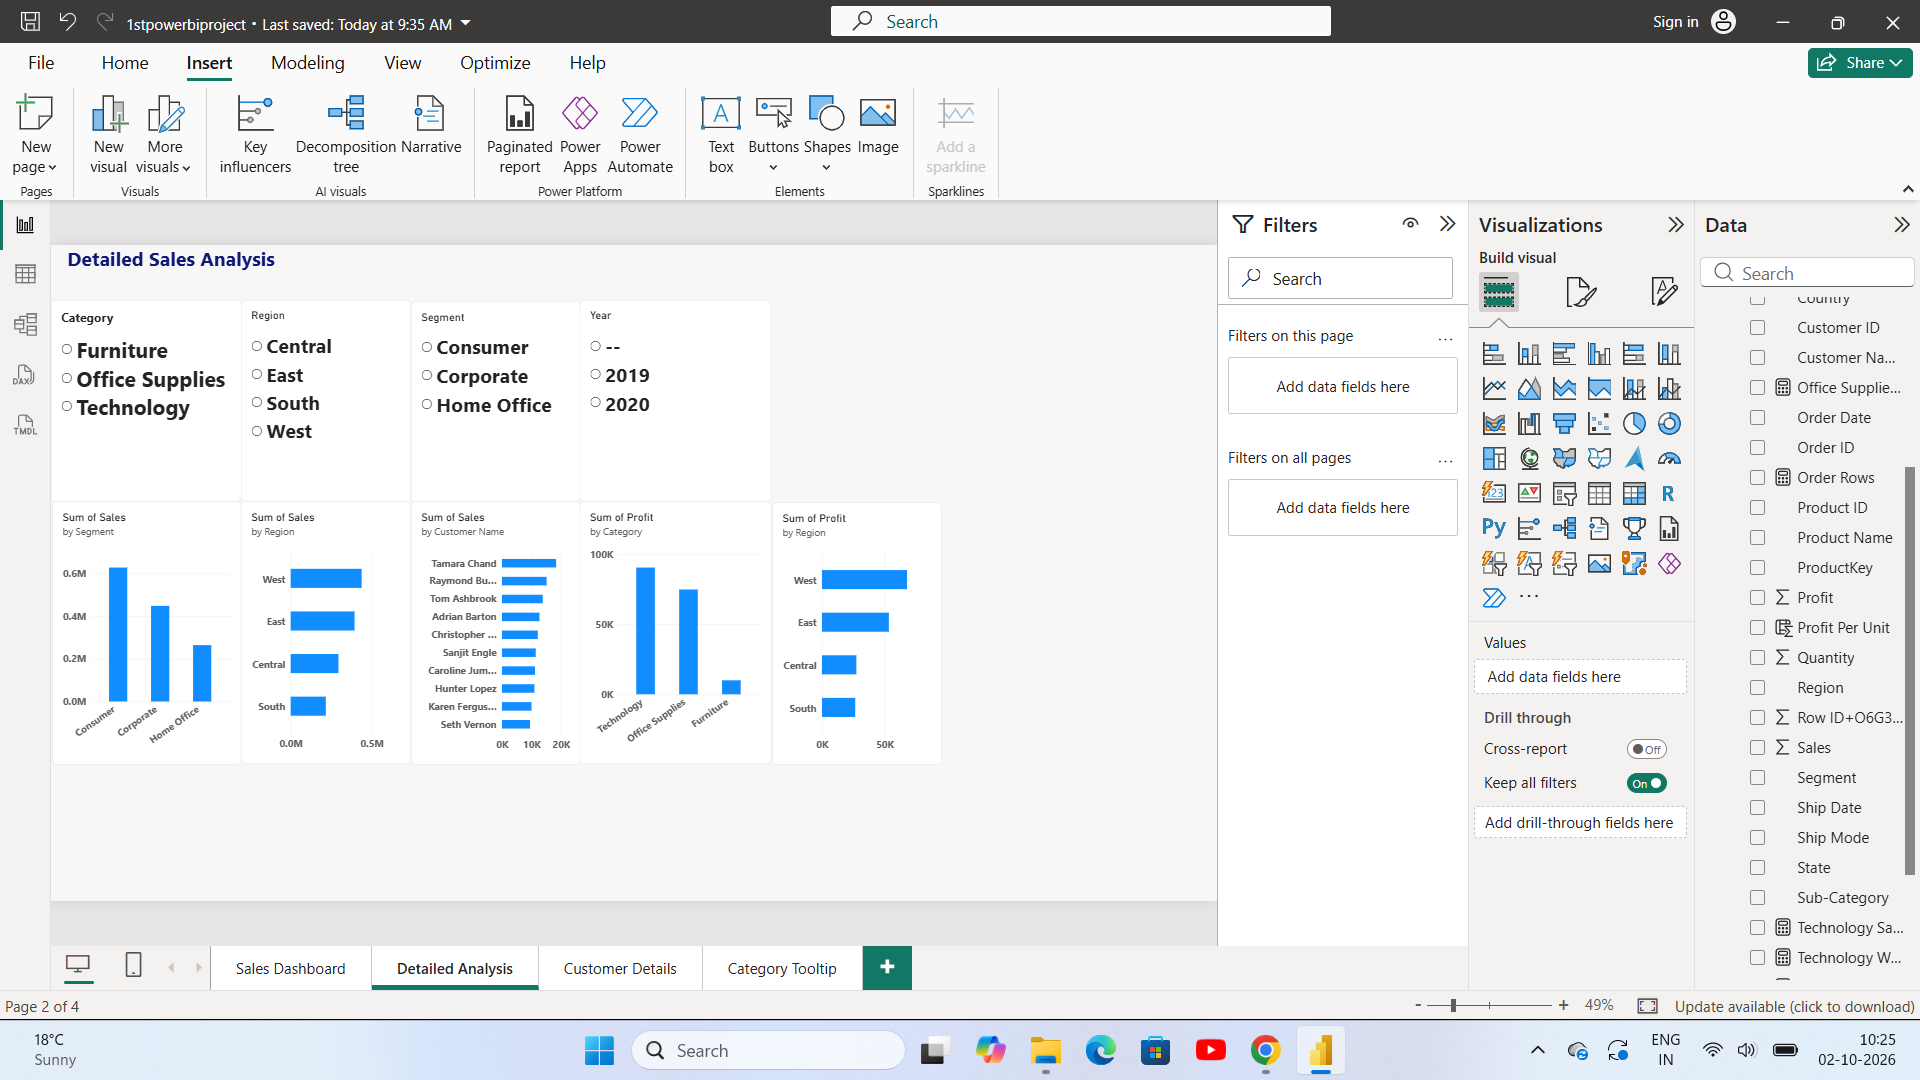

Layout of this report page (visuals, bound fields, positions):
{"tool":"powerbi","page":{"name":"Detailed Analysis","canvas":[1920,1080],"ordinal":1},"visuals":[{"type":"listSlicer","fields":{"Values":["Orders.Category"]},"box":[0,90.6,313.2,332.1],"z":0},{"type":"listSlicer","fields":{"Values":["Orders.Region"]},"box":[313.2,90.6,279.2,332.1],"z":1},{"type":"listSlicer","fields":{"Values":["Orders.Segment"]},"box":[592.5,92.5,279.2,330.2],"z":2},{"type":"listSlicer","fields":{"Values":["DimDate.Year"]},"box":[871.7,90.6,315.1,332.1],"z":3},{"type":"clusteredColumnChart","fields":{"Category":["Orders.Segment"],"Y":["Sum(Orders.Sales)"]},"box":[1.9,422.6,311.3,434],"z":4},{"type":"clusteredBarChart","fields":{"Category":["Orders.Region"],"Y":["Sum(Orders.Sales)"]},"box":[313.2,422.6,279.2,432.1],"z":5},{"type":"clusteredBarChart","fields":{"Category":["Orders.Customer Name"],"Y":["Sum(Orders.Sales)"]},"box":[592.5,422.6,279.2,434],"z":6},{"type":"clusteredColumnChart","fields":{"Category":["Orders.Category"],"Y":["Sum(Orders.Profit)"]},"box":[871.7,422.6,315.1,432.1],"z":7},{"type":"clusteredBarChart","fields":{"Category":["Orders.Region"],"Y":["Sum(Orders.Profit)"]},"box":[1186.8,424.5,279.2,432.1],"z":8},{"type":"textbox","box":[26.4,0,507.5,90.6],"z":9}]}

Visuals, with their boxes on the page's 1920x1080 design canvas (x1, y1, x2, y2). These are canvas units, not pixel positions in the 1920x1080 screenshot, which may show the page scaled, cropped or inside an application window:
listSlicer - Orders.Category: locate(0, 91, 313, 423)
listSlicer - Orders.Region: locate(313, 91, 592, 423)
listSlicer - Orders.Segment: locate(592, 92, 872, 423)
listSlicer - DimDate.Year: locate(872, 91, 1187, 423)
clusteredColumnChart - Orders.Segment x Sum(Orders.Sales): locate(2, 423, 313, 857)
clusteredBarChart - Orders.Region x Sum(Orders.Sales): locate(313, 423, 592, 855)
clusteredBarChart - Orders.Customer Name x Sum(Orders.Sales): locate(592, 423, 872, 857)
clusteredColumnChart - Orders.Category x Sum(Orders.Profit): locate(872, 423, 1187, 855)
clusteredBarChart - Orders.Region x Sum(Orders.Profit): locate(1187, 424, 1466, 857)
textbox: locate(26, 0, 534, 91)
